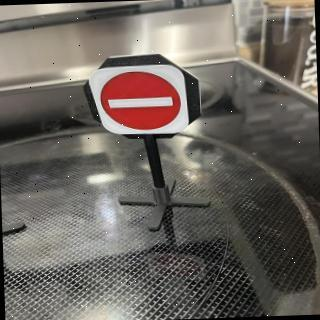sign_noentry: (86, 60, 204, 142)
